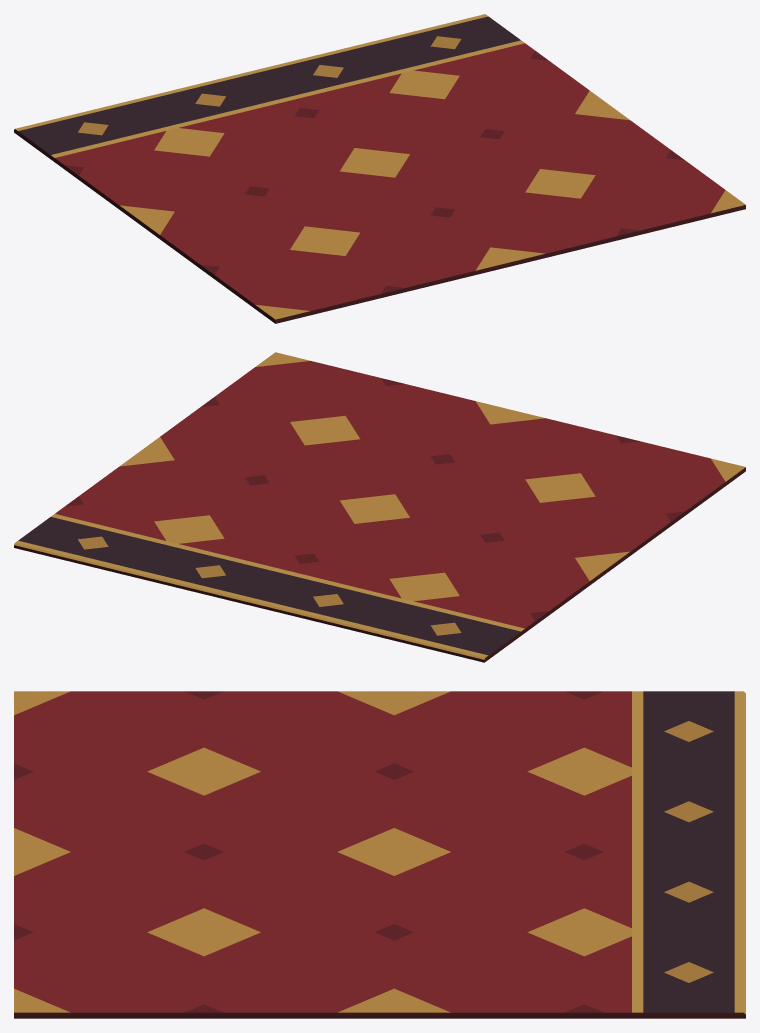
File: carpet_red_edge_A.glb
3 views of the same model, one above another, from view 1: azimuth 30°, elevation 25°; view 2: azimuth 150°, elevation 25°; view 3: azimuth 270°, elevation 25° (orthographic). The views are drawn at different scales.
Visible parts, largest first — view 1: Item; view 2: Item; view 3: Item.
Boxes of the visible parts, left/top/right/bottom form: Item: left=14, top=14, right=745, bottom=323; Item: left=14, top=352, right=745, bottom=662; Item: left=14, top=691, right=745, bottom=1018.
Bounding box in the file's own units: 4 × 0.035 × 3.85.
Materials: 1 (1 with a texture image).
